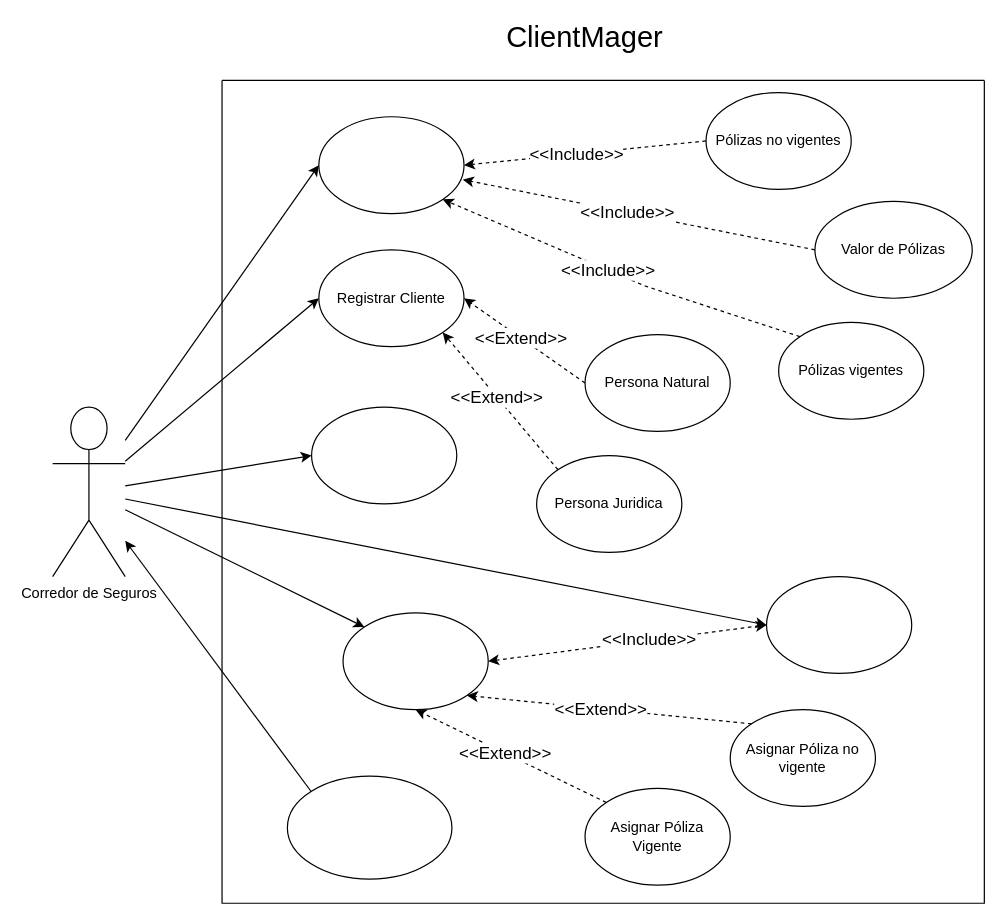
The diagram is 1006 pixels wide and 924 high, and some of its shapes have lost their labels. The centre of each missing label's shape, as x and y in pixels:
"Consultar Cliente" belongs at pixel 838 624.
"Consultar Póliza" belongs at pixel 415 661.
"Dashboard" belongs at pixel 391 165.
"Notificar de Pólizas a vencer" belongs at pixel 369 827.
"Registrar Póliza" belongs at pixel 383 455.
